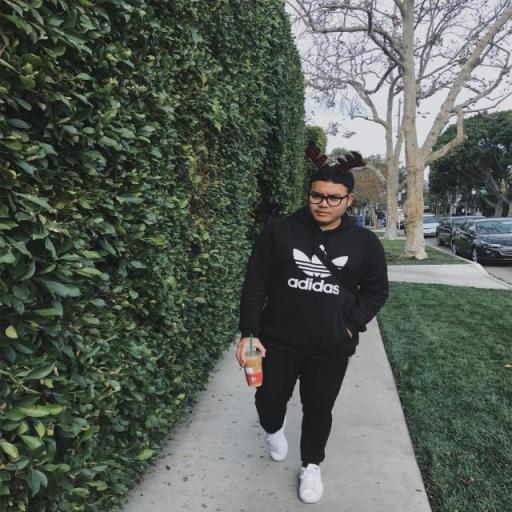Adidas: (284, 242, 350, 297)
